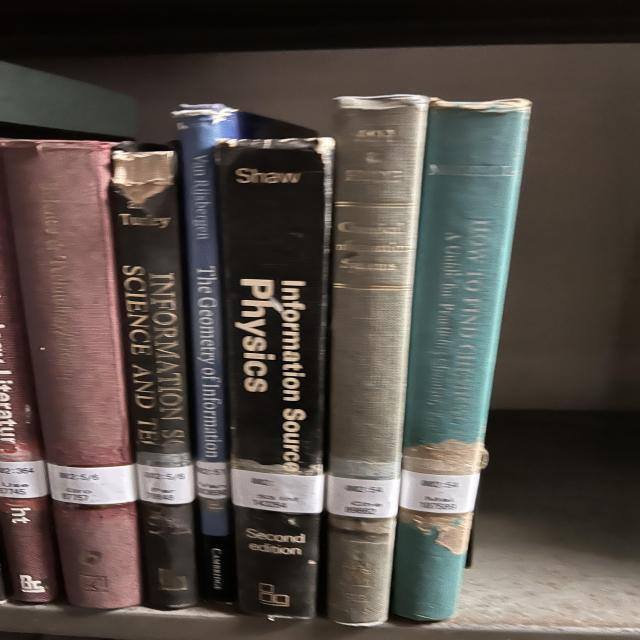Book: (392, 100, 530, 620), (173, 104, 315, 601), (2, 140, 142, 609), (215, 139, 333, 619), (327, 95, 430, 625), (110, 150, 198, 609)
Label: (232, 469, 325, 514), (47, 462, 137, 505), (400, 470, 480, 514), (327, 475, 400, 519), (137, 464, 195, 504), (197, 461, 228, 499)
